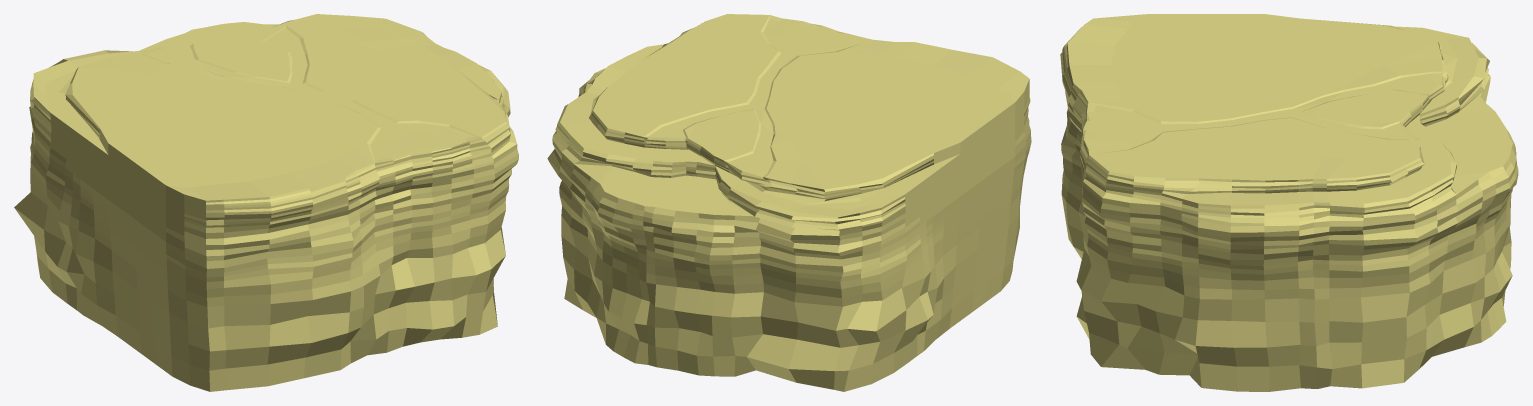
Rendered from FLOOR_v3.fbx.
The picture shows the model from 3 angles, left to right: view 1: azimuth 30°, elevation 25°; view 2: azimuth 150°, elevation 25°; view 3: azimuth 270°, elevation 25°; orthographic projection. The views are drawn at different scales.
Visible parts, largest first — view 1: env_base_s5; view 2: env_base_s5; view 3: env_base_s5.
Boxes of the visible parts, bbox=[...] form: env_base_s5: bbox=[14, 14, 518, 391]; env_base_s5: bbox=[547, 14, 1031, 391]; env_base_s5: bbox=[1060, 14, 1518, 391].
Bounding box in the file's own units: 224 × 112 × 224.
